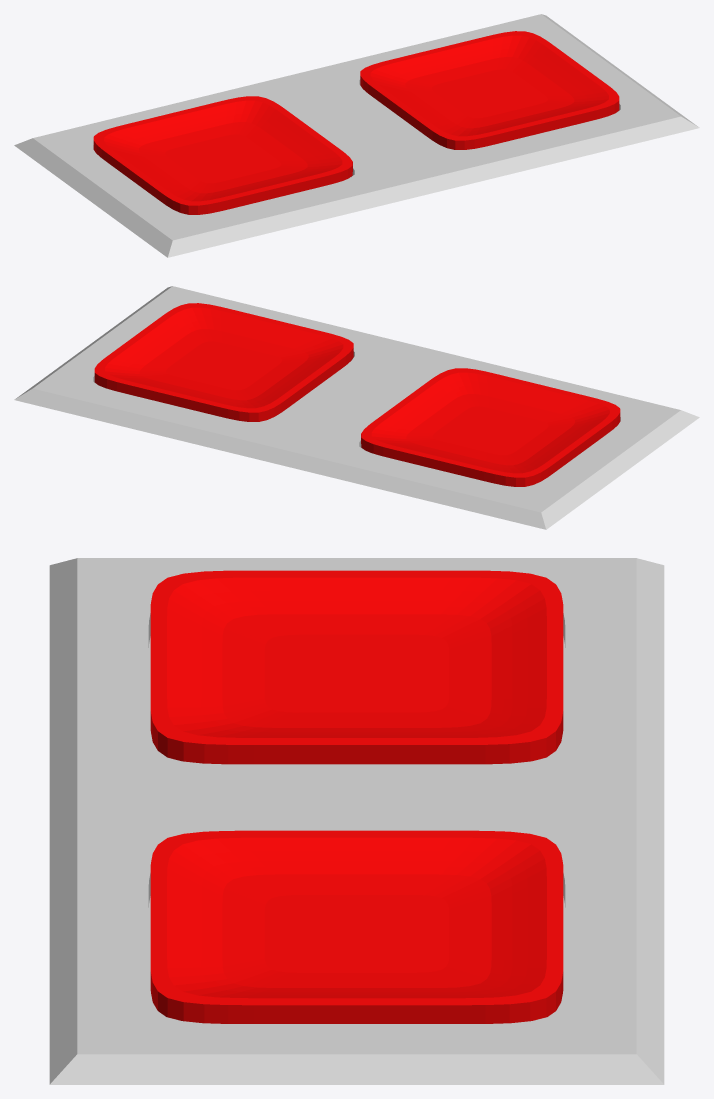
Rendered from props.fbx_b16.fbx.
3 views of the same model, one above another, from view 1: azimuth 30°, elevation 25°; view 2: azimuth 150°, elevation 25°; view 3: azimuth 270°, elevation 25° (orthographic). The views are drawn at different scales.
Visible parts, largest first — view 1: Plane.020, Plane.019, Plane.021; view 2: Plane.020, Plane.019, Plane.021; view 3: Plane.020, Plane.021, Plane.019.
Part boxes in pixels (<box>): Plane.020: <box>14,14,699,257</box>; Plane.019: <box>360,31,619,149</box>; Plane.021: <box>93,96,352,214</box>; Plane.020: <box>14,286,699,529</box>; Plane.019: <box>94,303,353,421</box>; Plane.021: <box>361,368,620,486</box>; Plane.020: <box>49,558,664,1084</box>; Plane.021: <box>150,570,563,764</box>; Plane.019: <box>150,830,563,1023</box>.
Bounding box in the file's own units: 2.99 × 0.1111 × 1.5.
